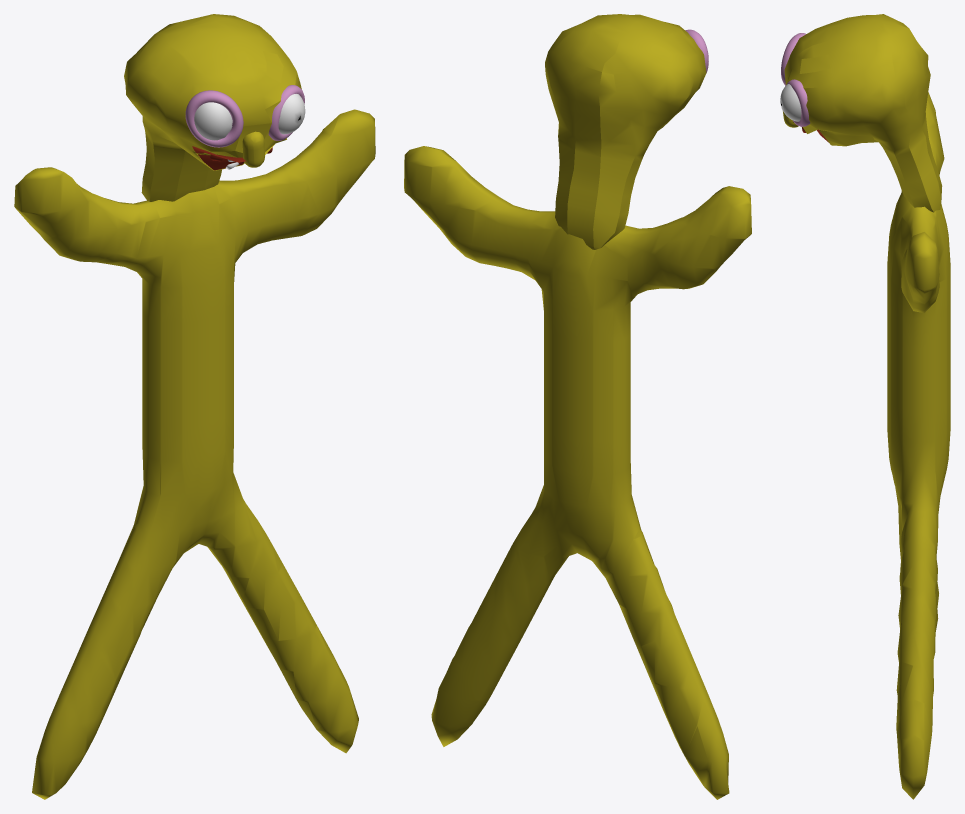
Rendered from guuby.fbx.
The picture shows the model from 3 angles, left to right: view 1: azimuth 30°, elevation 25°; view 2: azimuth 150°, elevation 25°; view 3: azimuth 270°, elevation 25°; orthographic projection. The views are drawn at different scales.
Parts seen in each view (by area): view 1: Mball.010, Torus, Sphere, Sphere.001, Torus.001; view 2: Mball.010; view 3: Mball.010, Sphere.001, Torus.001, Torus.
Boxes of the visible parts, bbox=[...] form: Mball.010: bbox=[14, 14, 375, 799]; Torus: bbox=[185, 90, 243, 147]; Sphere: bbox=[194, 102, 232, 140]; Sphere.001: bbox=[278, 94, 305, 134]; Torus.001: bbox=[268, 85, 304, 140]; Mball.010: bbox=[404, 14, 751, 799]; Mball.010: bbox=[783, 14, 950, 799]; Sphere.001: bbox=[780, 84, 801, 121]; Torus.001: bbox=[786, 79, 810, 126]; Torus: bbox=[781, 33, 805, 85].
Size of the model in its own units: 1332 by 2772 by 608.
